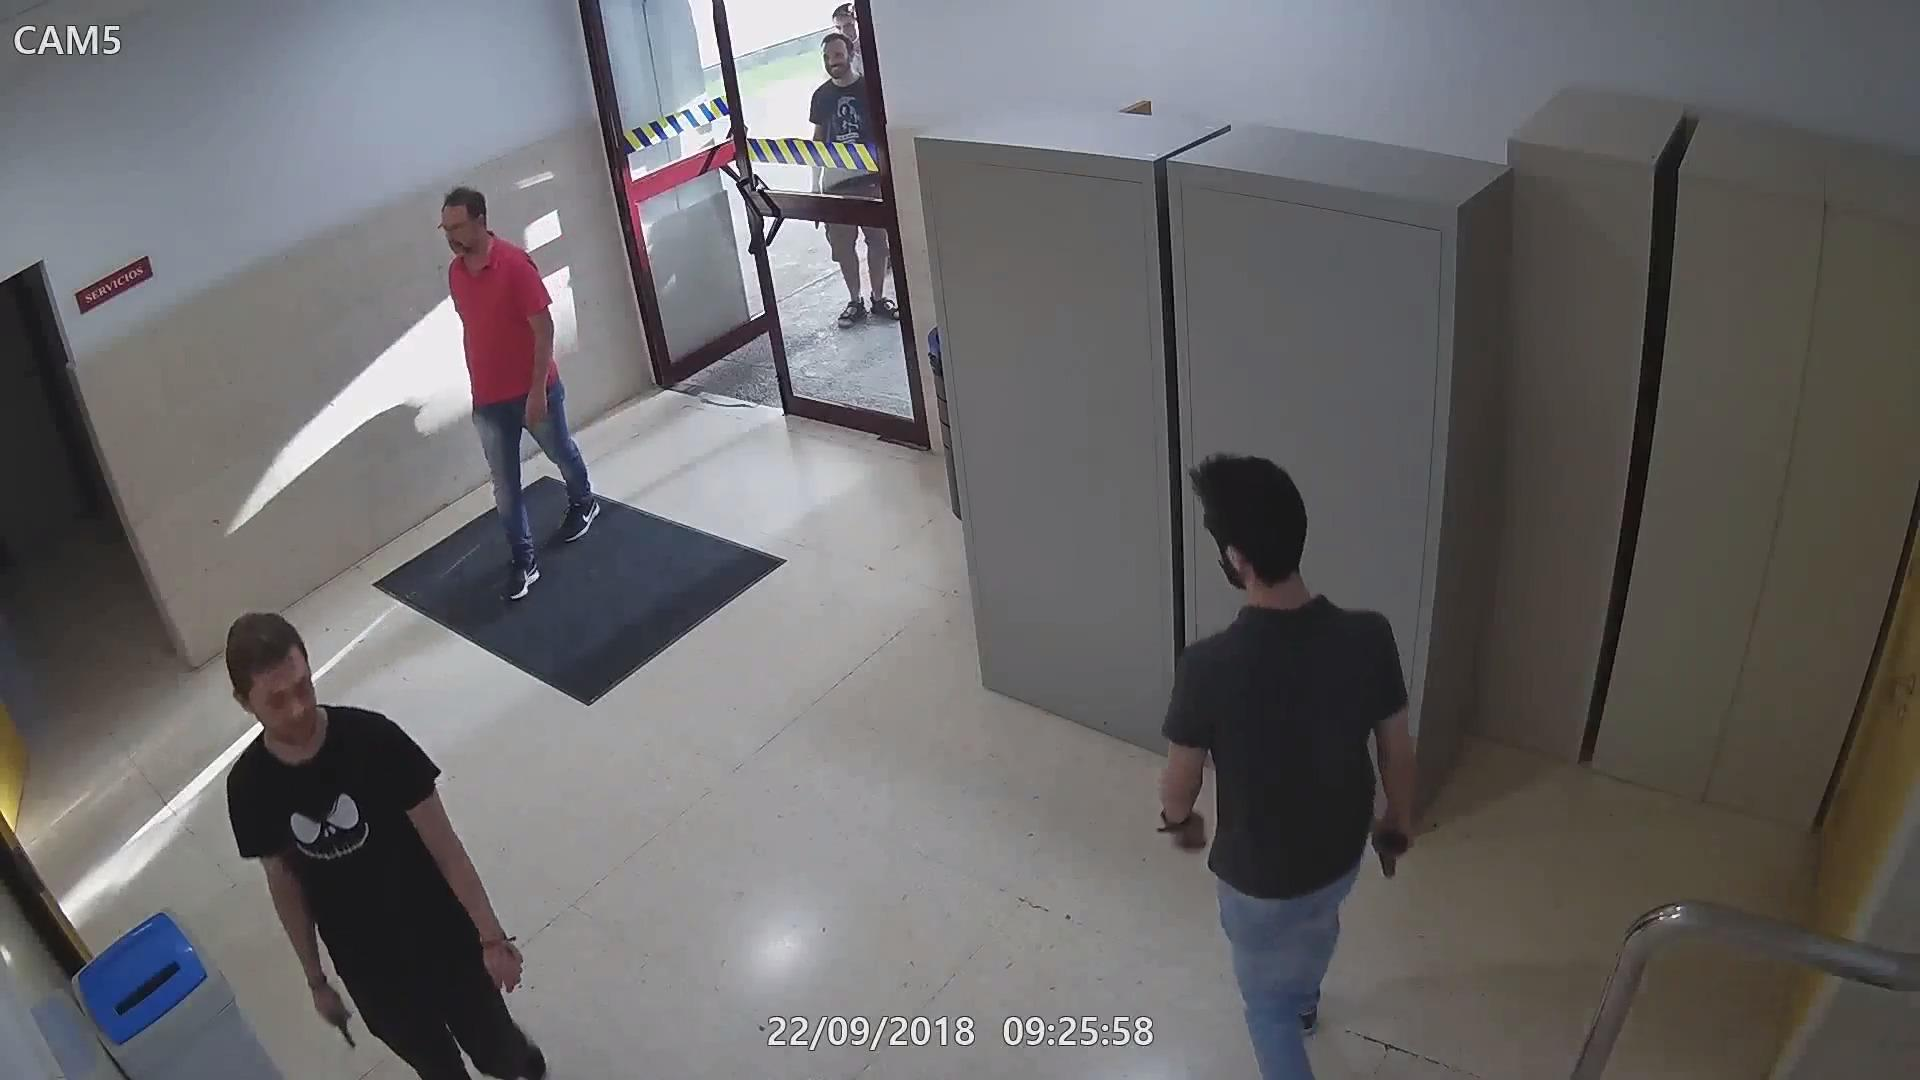Handgun: (309, 997, 364, 1071), (1358, 800, 1414, 866)
